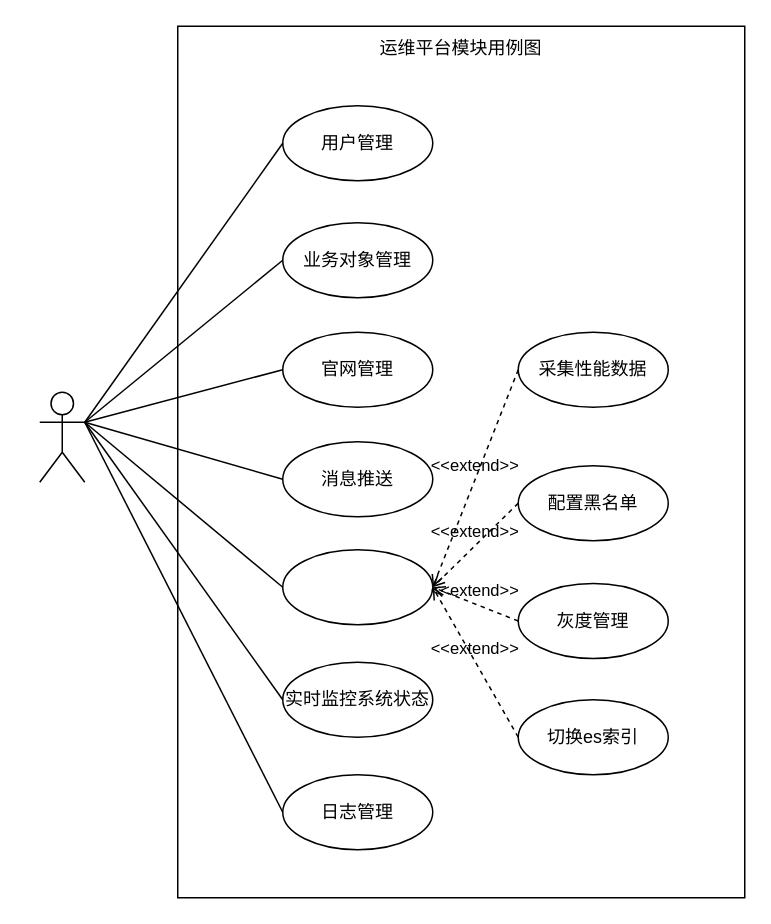
Image size: 771x924. Some labels were removed from this diagram. Each missing label, with the centre of its shape:
运维人员: the point at 61,436
运维管理: the point at 357,586
